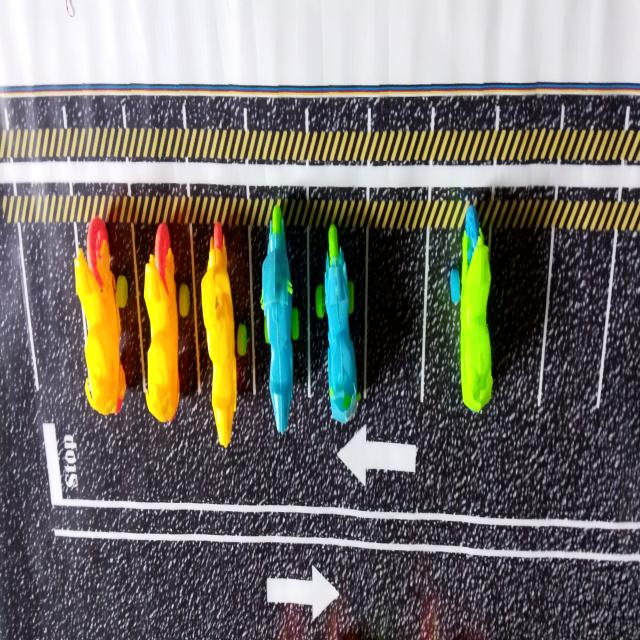occupied: (425, 205, 493, 412), (132, 221, 199, 422), (193, 221, 252, 447), (75, 215, 142, 414), (251, 206, 307, 433), (306, 226, 365, 422)
slots: (541, 231, 612, 434), (487, 229, 550, 399), (366, 230, 424, 409), (21, 223, 81, 385)
